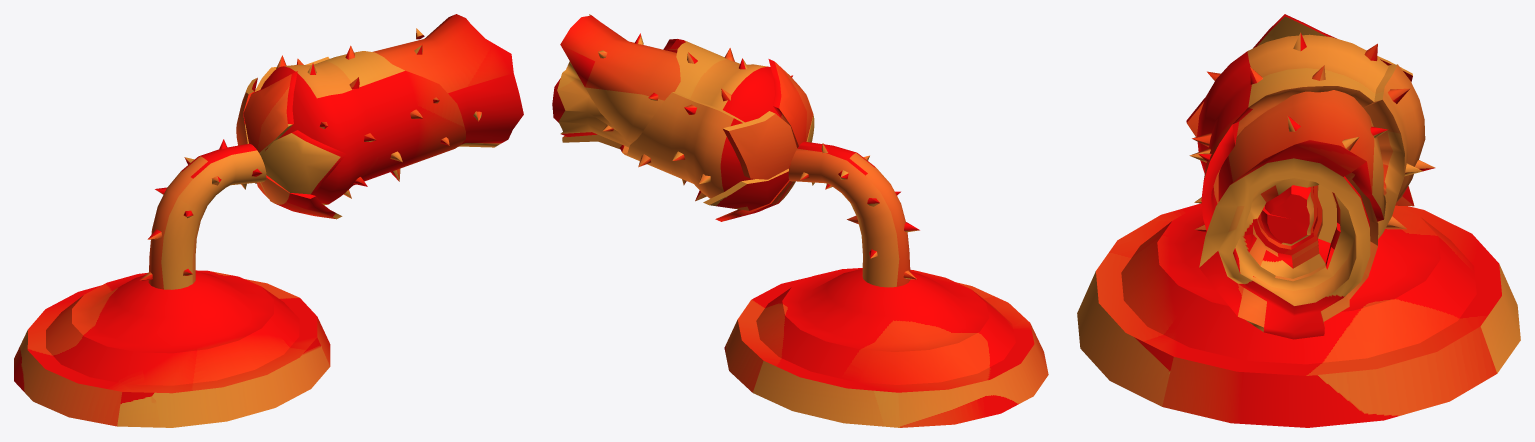
The model's file is Turret1_Shoot.fbx.
3 views of the same model, side by side, from view 1: azimuth 30°, elevation 25°; view 2: azimuth 150°, elevation 25°; view 3: azimuth 270°, elevation 25° (orthographic). The views are drawn at different scales.
Parts seen in each view (by area): view 1: Cylinder003; view 2: Cylinder003; view 3: Cylinder003.
Boxes of the visible parts, left/top/right/bottom form: Cylinder003: left=14, top=14, right=523, bottom=427; Cylinder003: left=552, top=14, right=1048, bottom=427; Cylinder003: left=1077, top=14, right=1520, bottom=427.
Size of the model in its own units: 687 by 386 by 381.
